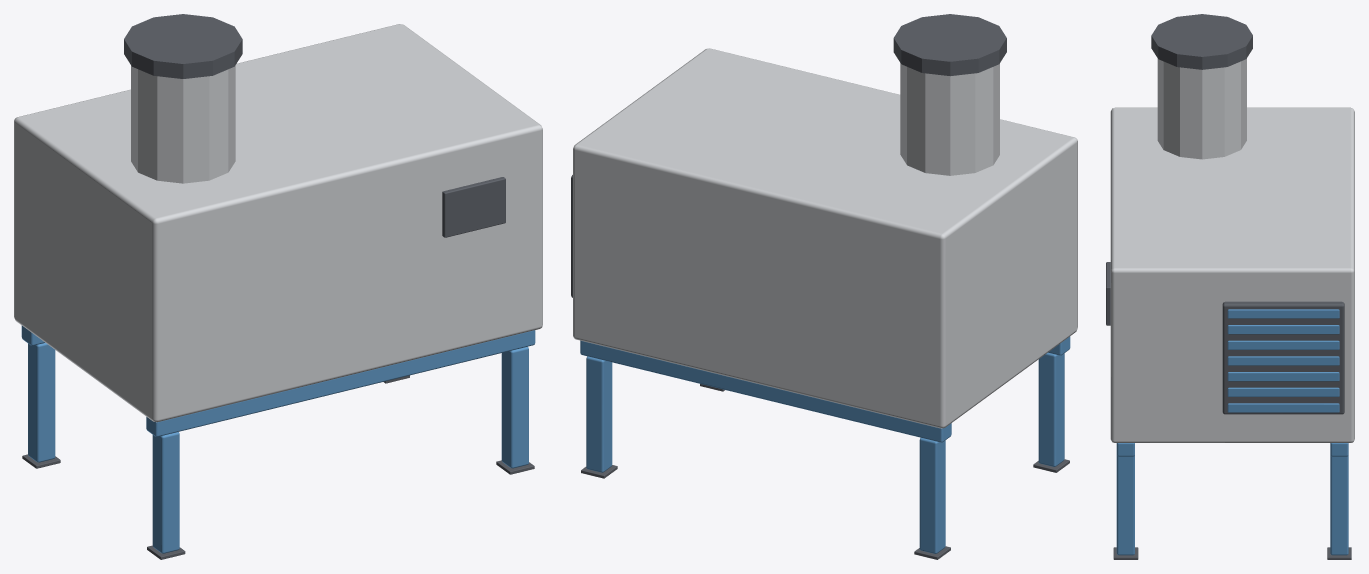
The model's file is air-handling-unit.glb.
3 renders of one model, left to right at view 1: azimuth 30°, elevation 25°; view 2: azimuth 150°, elevation 25°; view 3: azimuth 270°, elevation 25°, orthographic. The views are drawn at different scales.
Parts seen in each view (by area): view 1: air-handling-unit; view 2: air-handling-unit; view 3: air-handling-unit.
Part boxes in pixels (x1=…): air-handling-unit: x1=14, y1=14, x2=542, y2=559; air-handling-unit: x1=571, y1=14, x2=1077, y2=559; air-handling-unit: x1=1106, y1=14, x2=1354, y2=559.
Size of the model in its own units: 3.88 by 4.33 by 2.44.
